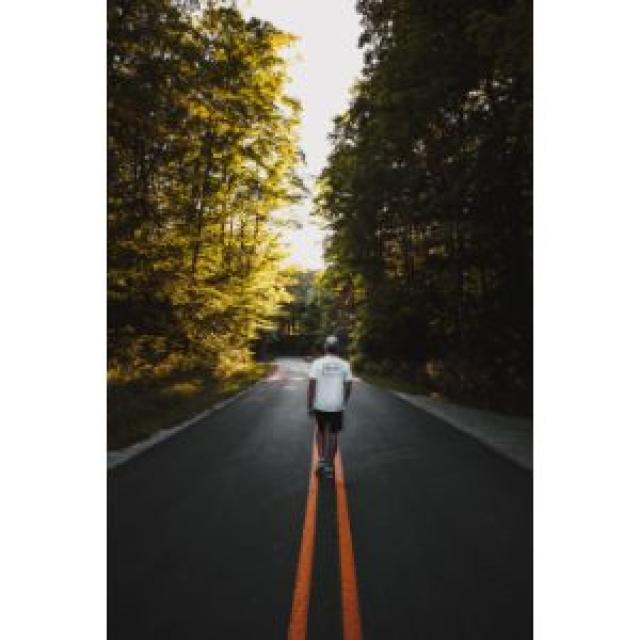nonfall: (292, 324, 369, 478)
